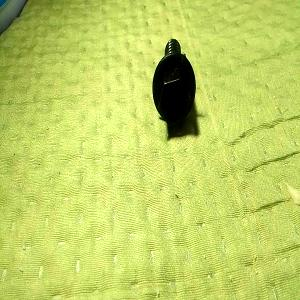parafuso: (152, 38, 197, 125)
